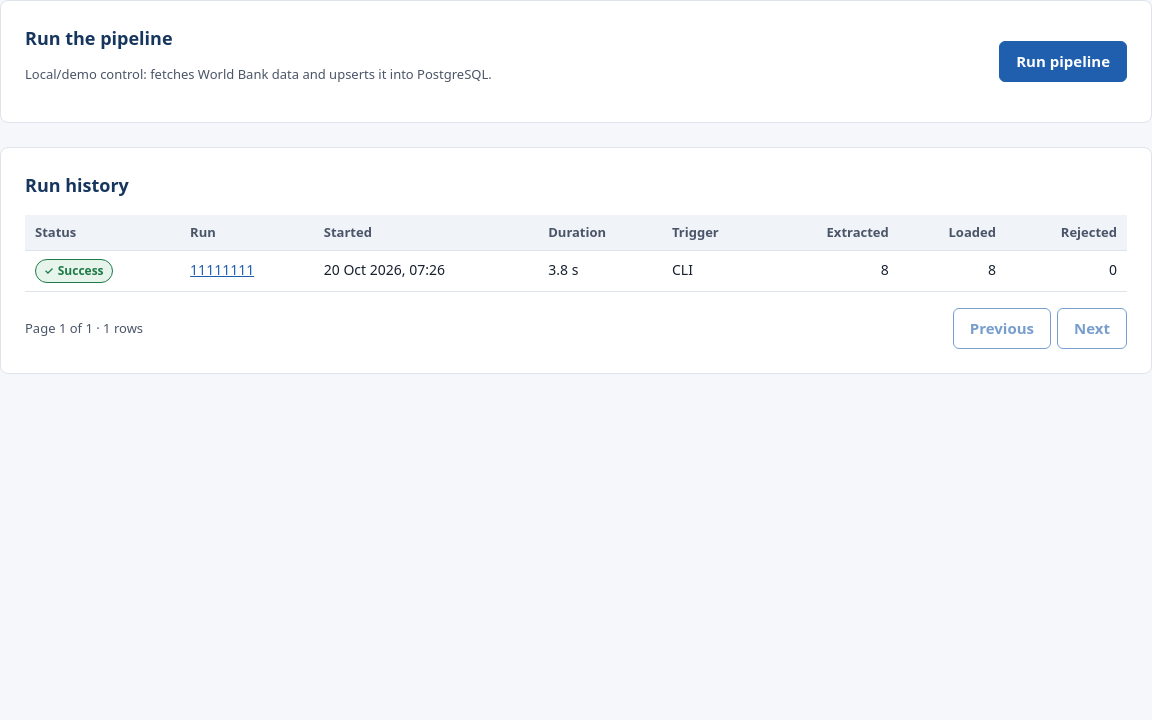
Test case: RunsPage › explains a conflict (409) and links to the running run
Expected: the heading "Run history" is shown, [25, 172, 129, 196]
Click the button "Run pipeline". click: (1063, 61)
box: [999, 41, 1127, 82]
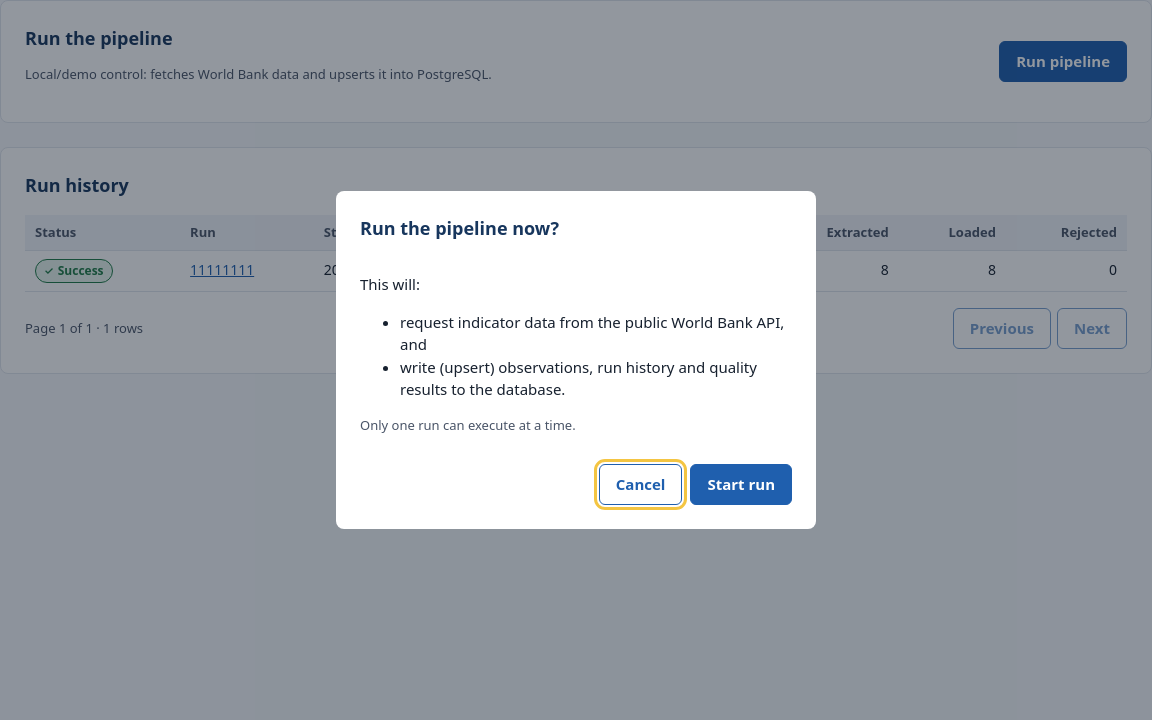
Click the button "Start run". click: (741, 485)
box: [690, 464, 792, 505]
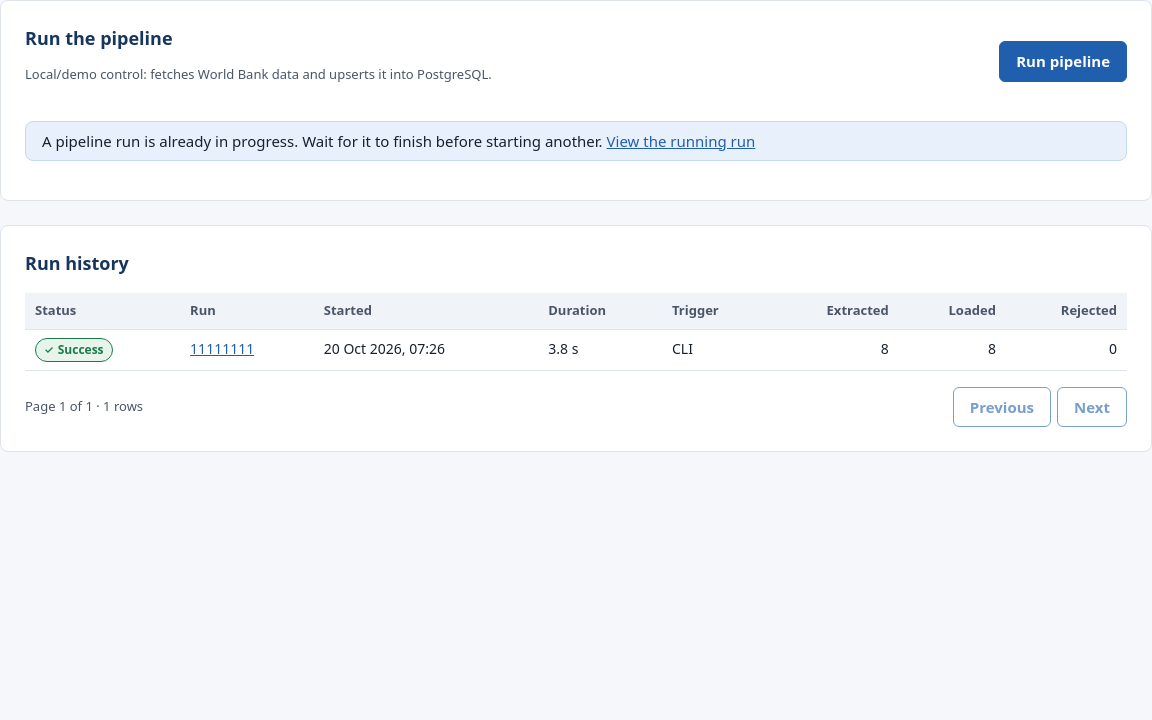
Expected: the text "already in progress" is shown, [42, 130, 603, 150]
